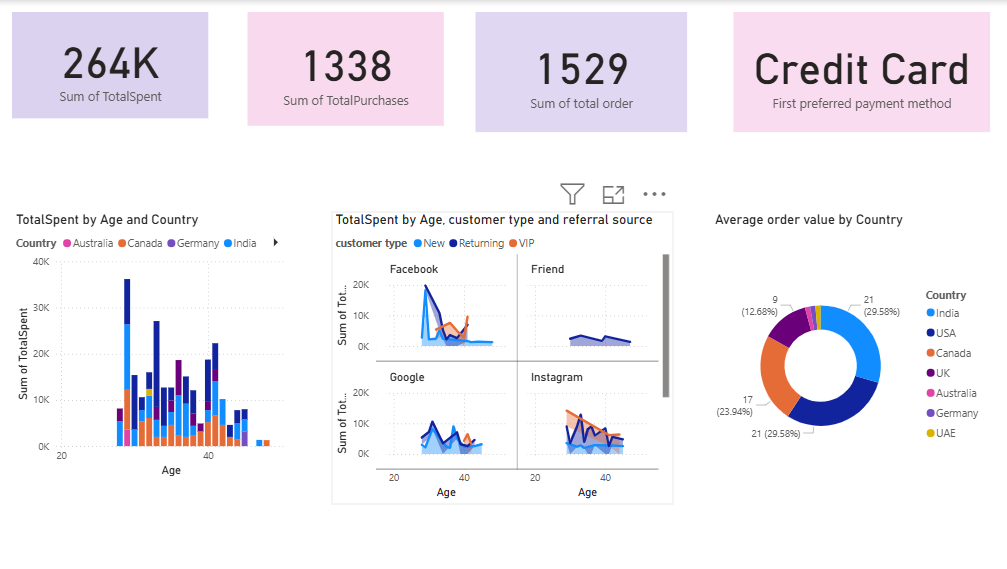

The page's visual inventory and layout, read from the dashboard file:
{"tool":"powerbi","page":{"name":"Page 1","canvas":[1280,720],"ordinal":0},"visuals":[{"type":"columnChart","title":"TotalSpent by Age and Country","fields":{"Category":["Sheet1.Age"],"Y":["Sum(Sheet1.TotalSpent)"],"Series":["Sheet1.Country"]},"box":[22.7,266.5,351.5,338.3],"z":0},{"type":"card","fields":{"Values":["Sum(Sheet1.TotalSpent)"]},"box":[22.7,15.1,247.6,134.2],"z":1000},{"type":"card","fields":{"Values":["Sum(Sheet1.TotalPurchases)"]},"box":[319.4,15.1,247.6,143.6],"z":2000},{"type":"card","fields":{"Values":["Sum(Sheet1.total order)"]},"box":[606.6,15.1,266.5,151.2],"z":3000},{"type":"card","fields":{"Values":["Min(Sheet1.preferred payment method)"]},"box":[931.7,15.1,323.2,151.2],"z":4000},{"type":"stackedAreaChart","title":" TotalSpent by Age, customer type and referral source","fields":{"Category":["Sheet1.Age"],"Series":["Sheet1.customer type"],"Rows":["Sheet1.referral source"],"Y":["Sum(Sheet1.TotalSpent)"]},"box":[425.2,266.5,430.9,368.5],"z":5000},{"type":"donutChart","title":"Average order value by Country","fields":{"Category":["Sheet1.Country","Sheet1.Age"],"Y":["Count(Sheet1.average order value)"]},"box":[903.3,266.5,351.5,368.5],"z":6000}]}

Visuals, with their boxes in screenshot pixels (x1, y1, x2, y2), scaled from the page's 1280x720 canvas onto the 1007x569 screenshot:
"TotalSpent by Age and Country" columnChart: left=18, top=211, right=294, bottom=478
card - Sum(Sheet1.TotalSpent): left=18, top=12, right=213, bottom=118
card - Sum(Sheet1.TotalPurchases): left=251, top=12, right=446, bottom=125
card - Sum(Sheet1.total order): left=477, top=12, right=687, bottom=131
card - Min(Sheet1.preferred payment method): left=733, top=12, right=987, bottom=131
" TotalSpent by Age, customer type and referral source" stackedAreaChart: left=335, top=211, right=674, bottom=502
"Average order value by Country" donutChart: left=711, top=211, right=987, bottom=502
